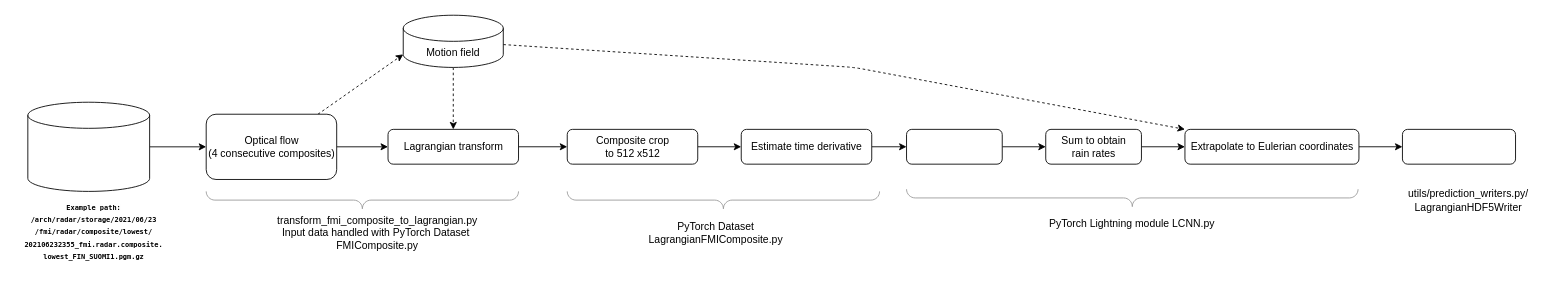
The diagram is 1561 pixels wide and 284 high, and some of its shapes have lost their labels. Each missing label, with the centre of its shape:
"Apply CNN" belongs at point (954, 146).
"Save output" belongs at point (1459, 146).
"SUOMI1 radar composite (PGM 1km)" belongs at point (88, 146).
